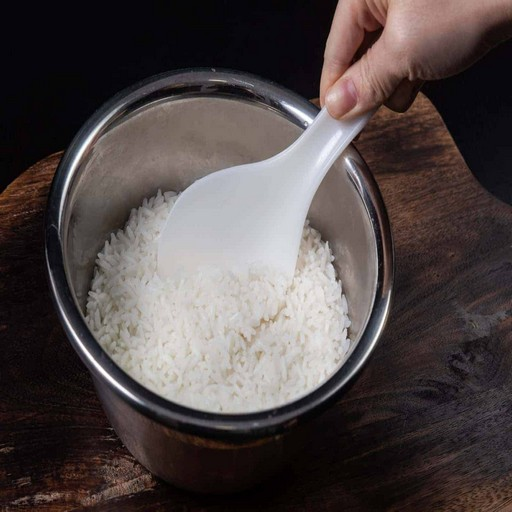rice: (130, 281, 253, 382)
